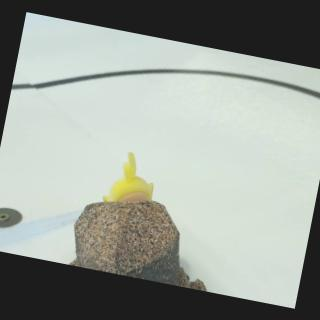teletubby: (103, 152, 152, 201)
